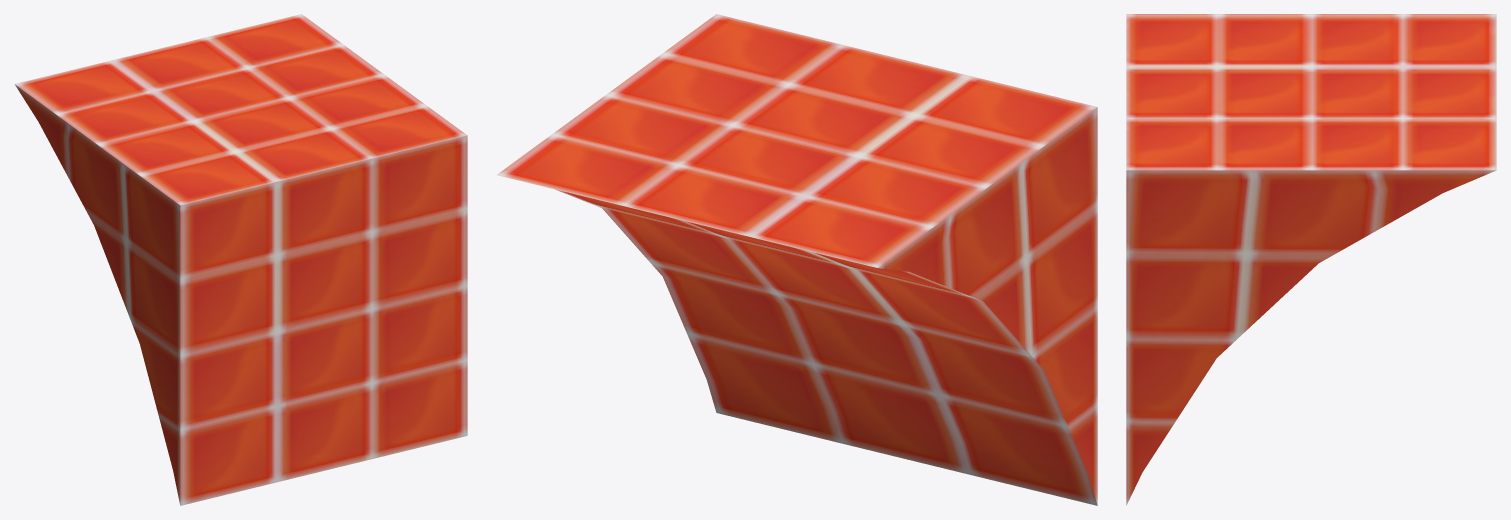
File: POL0310013.fbx
3 renders of one model, left to right at view 1: azimuth 30°, elevation 25°; view 2: azimuth 150°, elevation 25°; view 3: azimuth 270°, elevation 25°, orthographic. The views are drawn at different scales.
Parts seen in each view (by area): view 1: smPOL0310013; view 2: smPOL0310013; view 3: smPOL0310013.
Part boxes in pixels (left/top/right/bottom): smPOL0310013: left=14, top=14, right=467, bottom=505; smPOL0310013: left=497, top=14, right=1097, bottom=505; smPOL0310013: left=1126, top=14, right=1496, bottom=505.
Size of the model in its own units: 161 by 161 by 161.
1 material, 1 textured.
